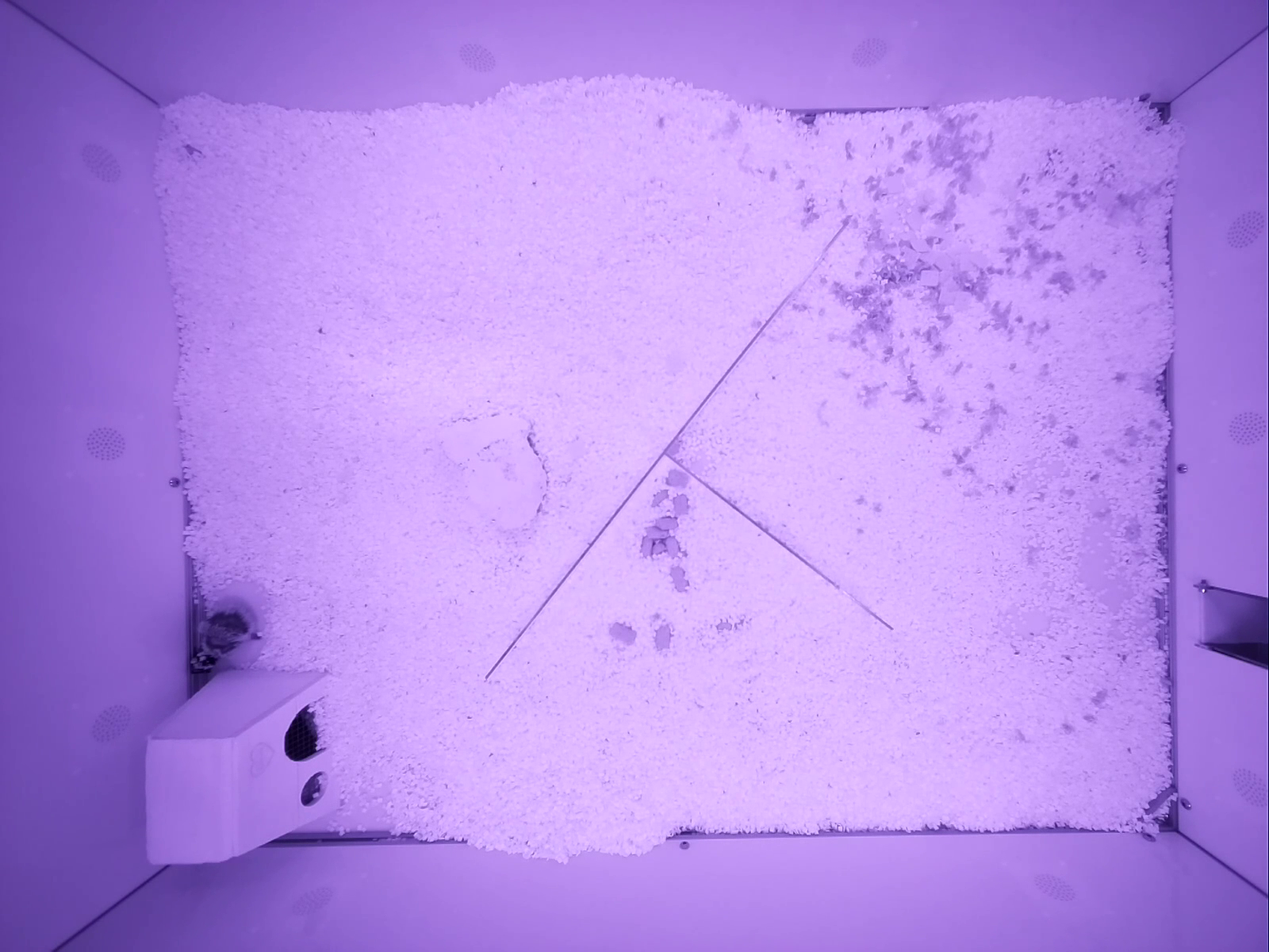adult_back: (190, 601, 262, 673)
